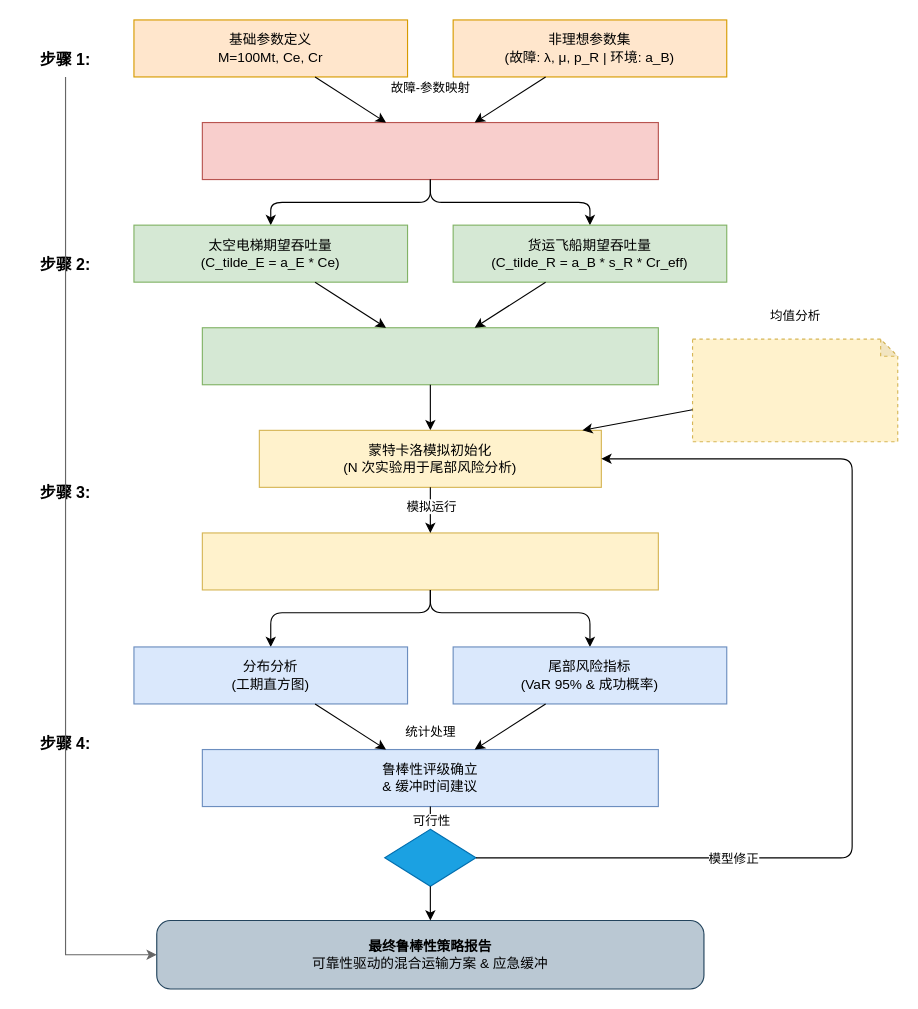
The diagram is 918 pixels wide and 1009 high, and some of its shapes have lost their labels. Each missing label, with the box of its shape:
不确定条件下的 有效吞吐量计算: (201, 121, 658, 180)
基于可靠性的 最优混合比偏移量 (α*) 测算: (201, 327, 658, 385)
校验: (384, 828, 476, 886)
生成器设置: ------------------------ 电梯: CTMC (开关过程) 火箭: 伯努利试验 指标: VaR 95%: (691, 338, 898, 442)
随机策略评估 (静态 α* vs. 动态备份): (201, 532, 658, 590)
